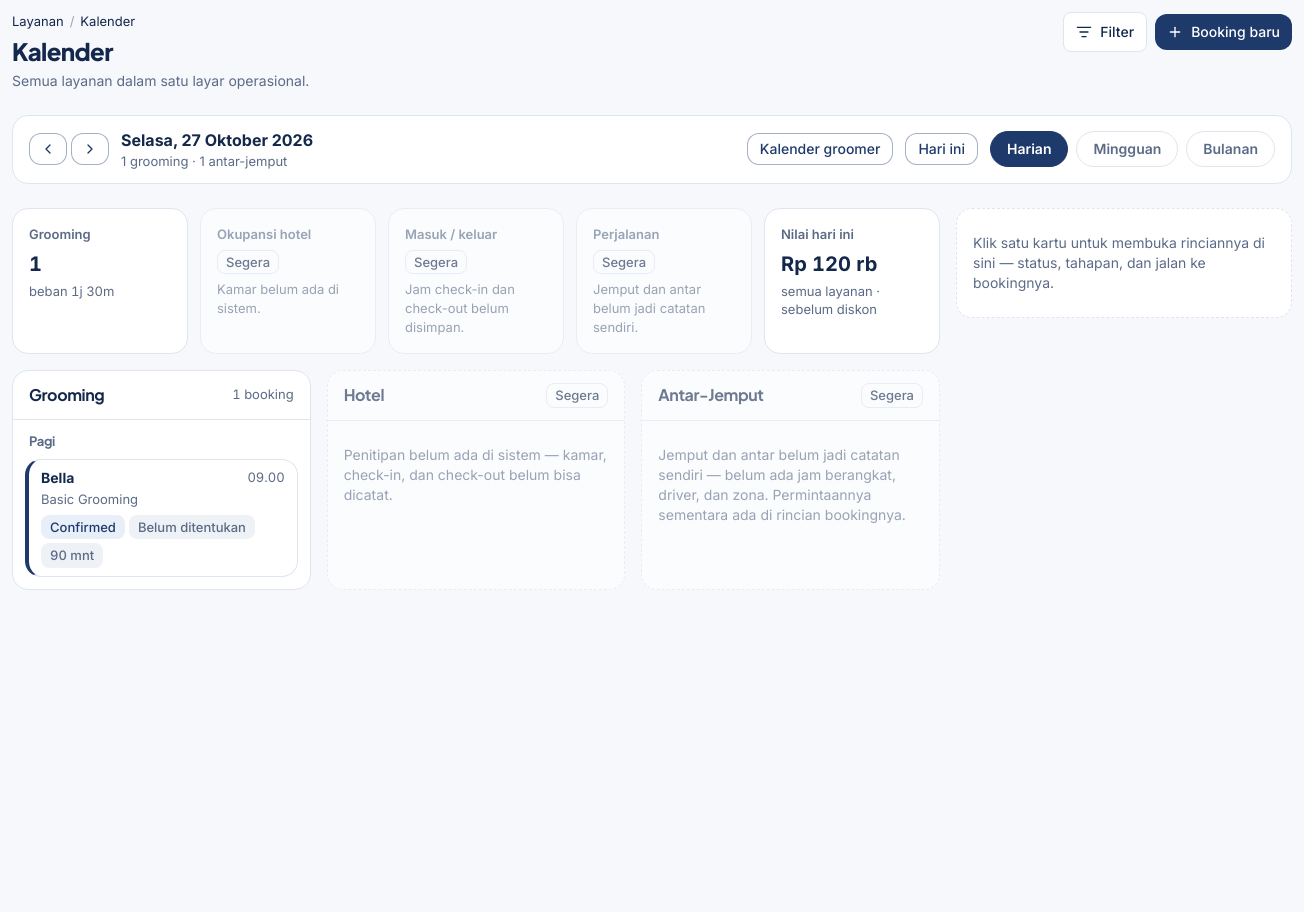
Hari Ini › says which journey a booking asked for, in the panel
Click the button with aria-label "bella · basic grooming": (161, 518) [25, 459, 298, 577]
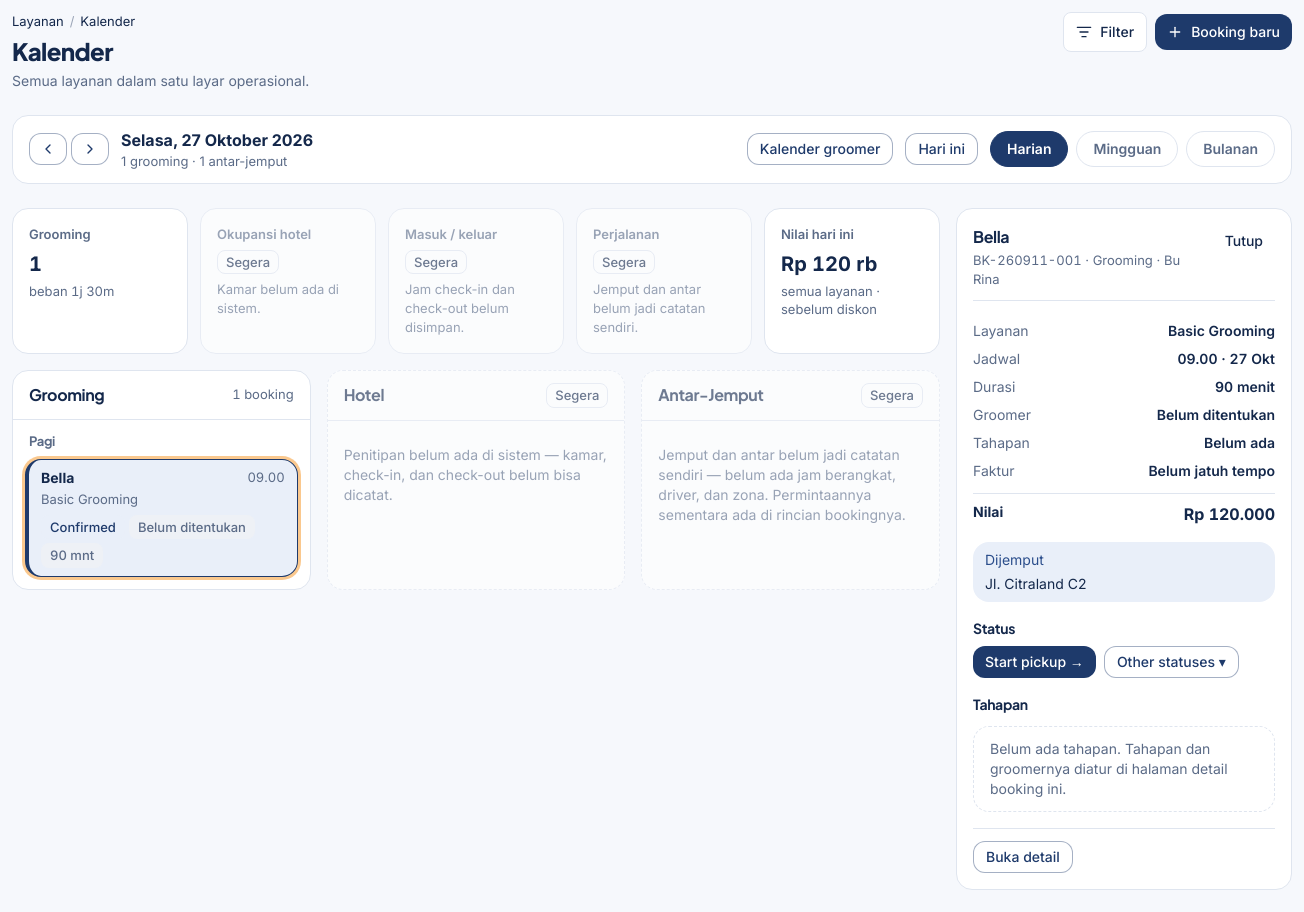
Result: the text "Dijemput" is shown at [985, 551, 1044, 568]
Result: the text "Jl. Citraland C2" is shown at [985, 575, 1086, 592]
